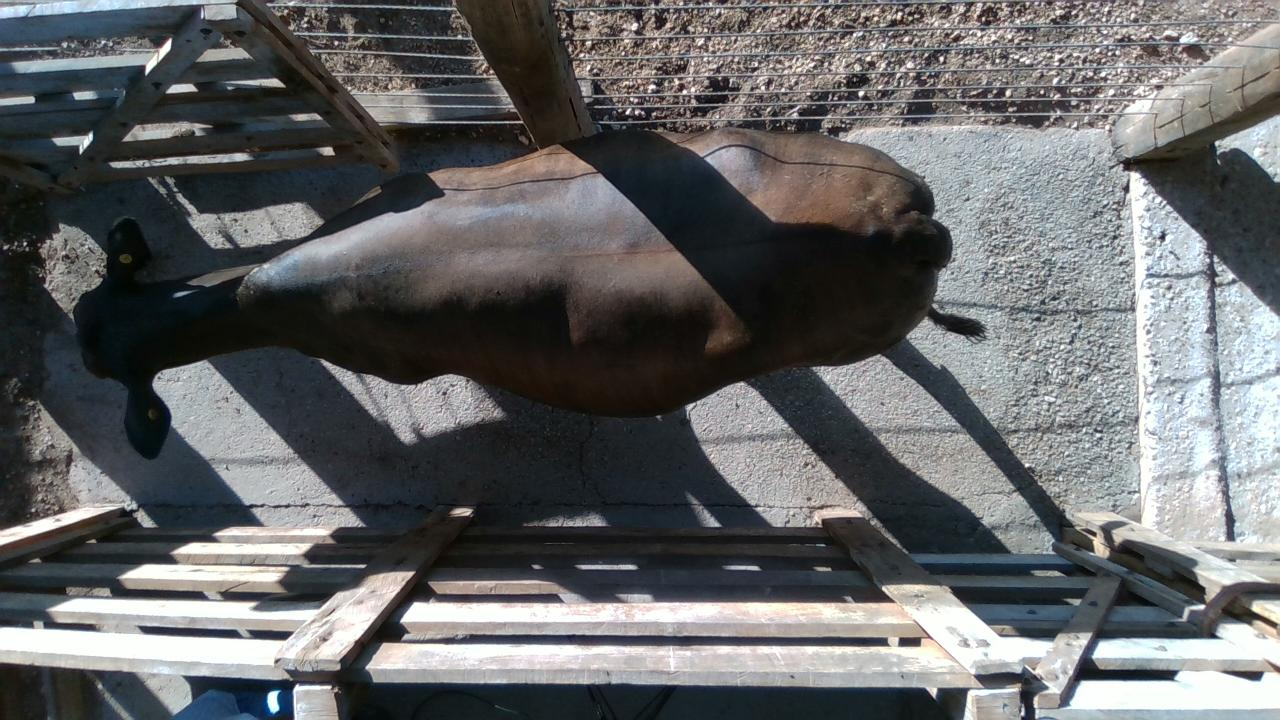cattle: (72, 124, 987, 459)
